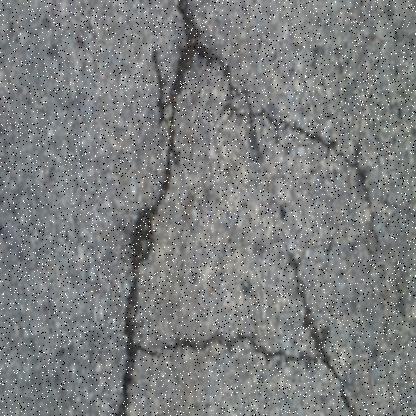Cracks: (176, 0, 376, 416), (115, 0, 194, 416), (125, 322, 332, 373)
